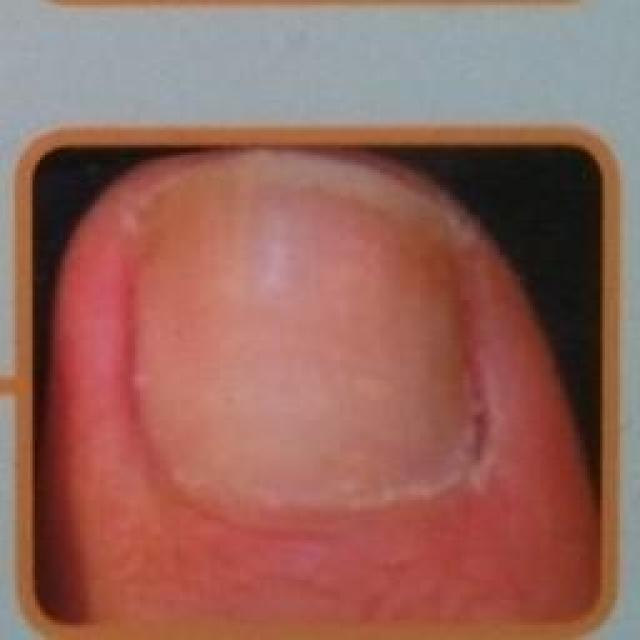Nail: (129, 148, 483, 514)
